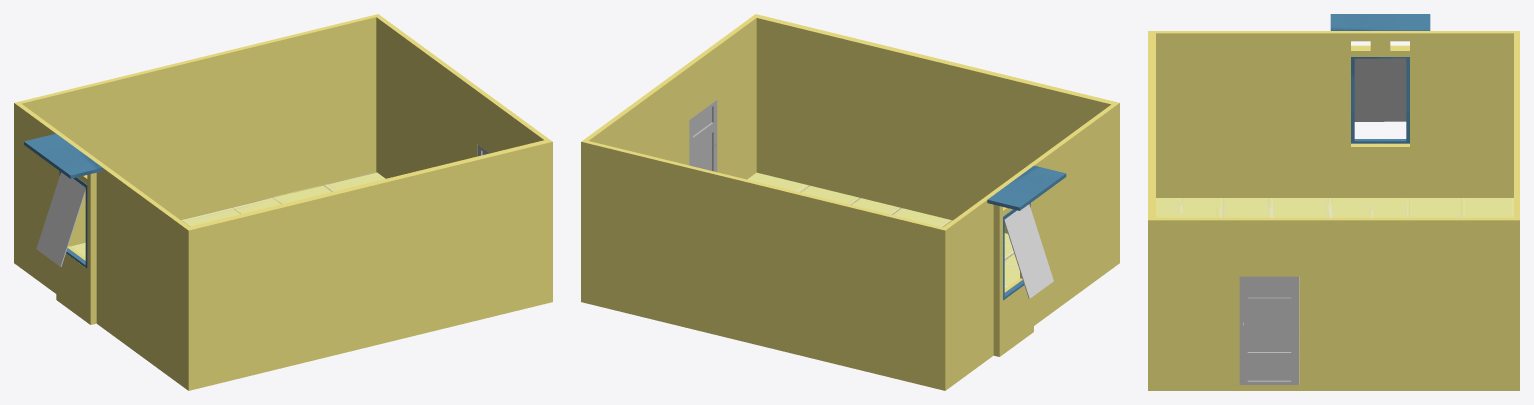
Rendered from kamar mabna 1 1.fbx.
3 renders of one model, left to right at view 1: azimuth 30°, elevation 25°; view 2: azimuth 150°, elevation 25°; view 3: azimuth 270°, elevation 25°, orthographic. The views are drawn at different scales.
Visible parts, largest first — view 1: Dinding Kamar.002, Jendela.001, Cube.001; view 2: Dinding Kamar.002, Jendela.001, Cube.001, Pintu.001; view 3: Dinding Kamar.002, Pintu.001, Jendela.001, Cube.001, Kotak Jendela.001.
Part boxes in pixels (<box>): Dinding Kamar.002: <box>14,14,552,390</box>; Jendela.001: <box>36,172,85,266</box>; Cube.001: <box>24,133,102,178</box>; Dinding Kamar.002: <box>581,14,1119,390</box>; Jendela.001: <box>1004,204,1053,298</box>; Cube.001: <box>987,165,1066,210</box>; Pintu.001: <box>689,100,717,171</box>; Dinding Kamar.002: <box>1148,31,1519,390</box>; Pintu.001: <box>1239,276,1299,384</box>; Jendela.001: <box>1354,58,1406,121</box>; Cube.001: <box>1330,14,1430,30</box>; Kotak Jendela.001: <box>1351,57,1409,143</box>.
Bounding box in the file's own units: 2452 × 948 × 1869.
